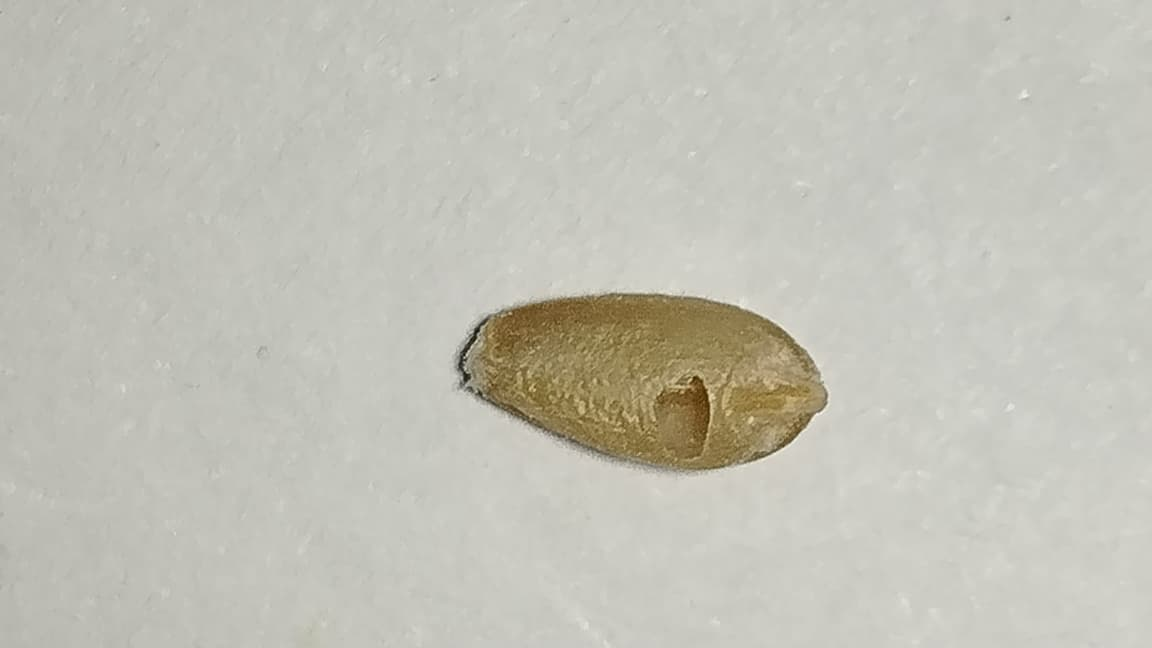damage: (457, 291, 827, 470)
insectdamage: (646, 363, 714, 460)
